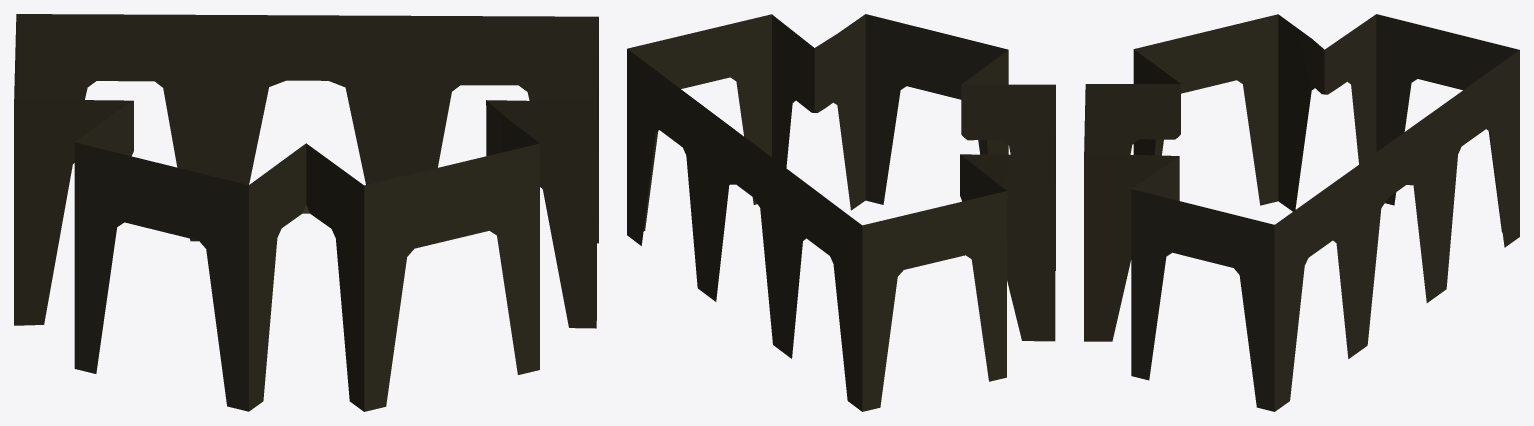
The model's file is Road_Bridge_Bridge.fbx.
3 renders of one model, left to right at view 1: azimuth 30°, elevation 25°; view 2: azimuth 150°, elevation 25°; view 3: azimuth 270°, elevation 25°, orthographic. The views are drawn at different scales.
Visible parts, largest first — view 1: Road_Bridge_Bridge; view 2: Road_Bridge_Bridge; view 3: Road_Bridge_Bridge.
Part boxes in pixels (bbox=[...]): Road_Bridge_Bridge: bbox=[14, 14, 598, 411]; Road_Bridge_Bridge: bbox=[627, 14, 1055, 411]; Road_Bridge_Bridge: bbox=[1084, 14, 1519, 411].
Bounding box in the file's own units: 0.898 × 0.7843 × 0.372.
